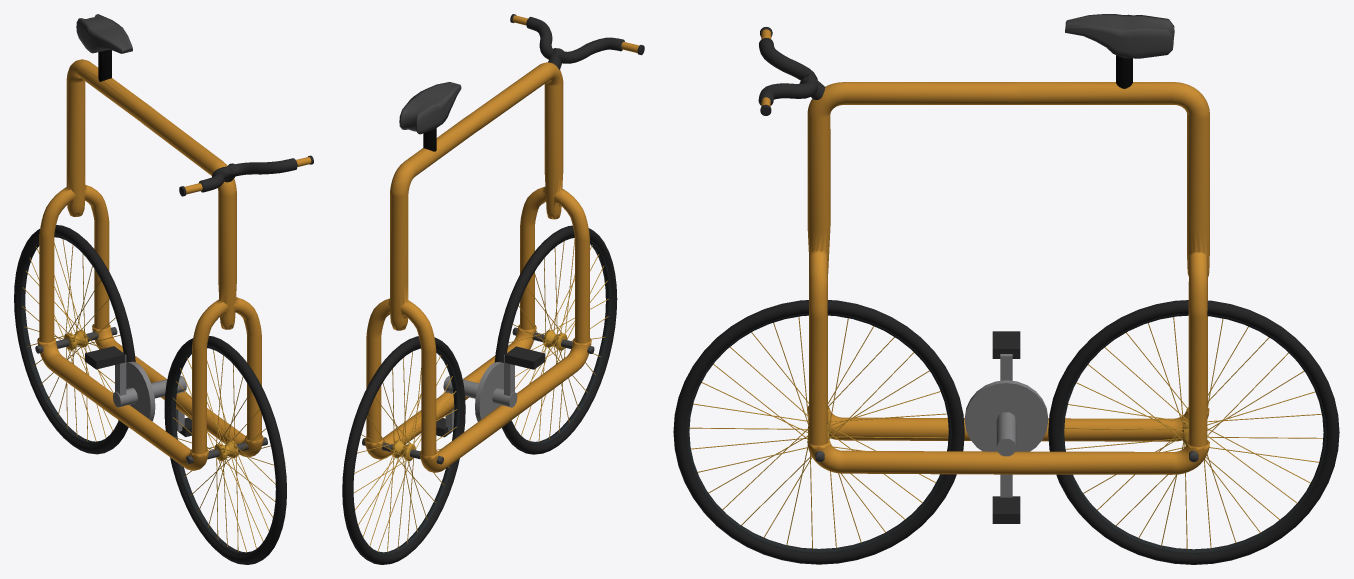
File: basikal_kotak_oren.glb
The picture shows the model from 3 angles, left to right: view 1: azimuth 30°, elevation 25°; view 2: azimuth 150°, elevation 25°; view 3: azimuth 270°, elevation 25°; orthographic projection. The views are drawn at different scales.
Parts seen in each view (by area): view 1: basikal_kotak_oren, basikal_kotak_oren_crank; view 2: basikal_kotak_oren, basikal_kotak_oren_crank; view 3: basikal_kotak_oren, basikal_kotak_oren_crank.
Part boxes in pixels (x1,y1,x2,y2): basikal_kotak_oren: (14,14,313,564); basikal_kotak_oren_crank: (85,346,191,436); basikal_kotak_oren: (342,14,644,564); basikal_kotak_oren_crank: (436,346,545,437); basikal_kotak_oren: (673,14,1339,564); basikal_kotak_oren_crank: (964,331,1048,523).
Size of the model in its own units: 0.3346 by 1.08 by 1.2.
